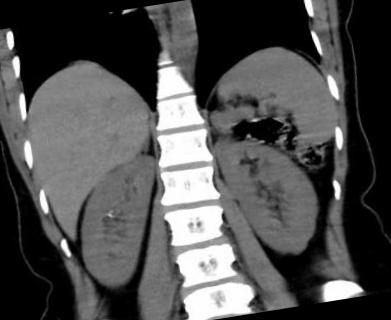Tas_Var: (106, 210, 112, 219)
